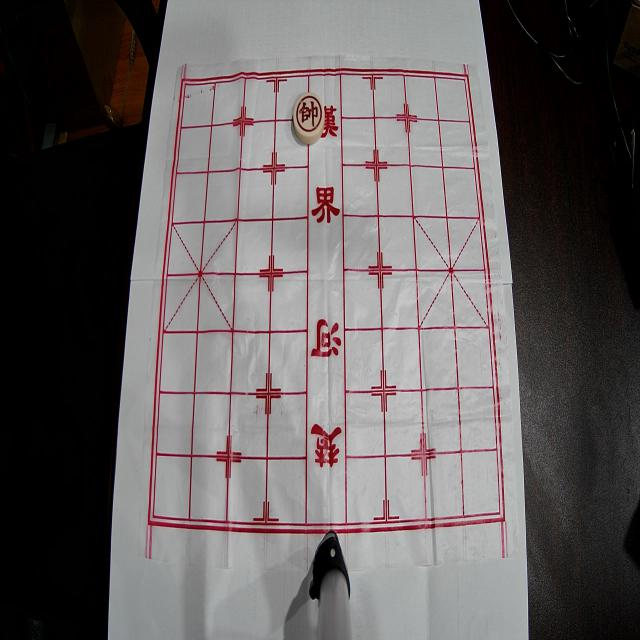red-general: (294, 93, 324, 143)
